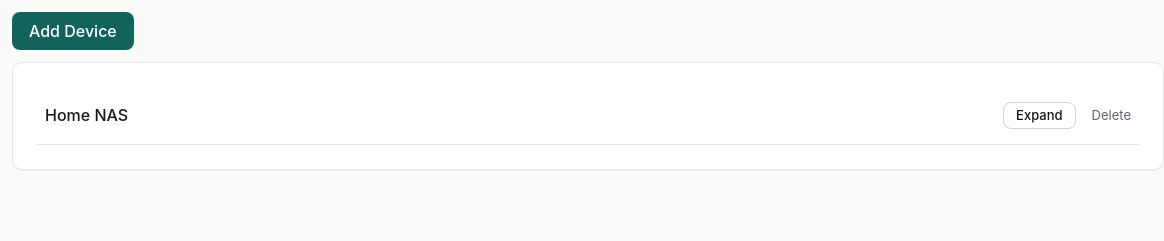
Test: RecordList › blocks deletion while another record references the source record
This screenshot has width=1164, height=241.
Click the button "Delete" at (1111, 115), box [1084, 101, 1139, 129]
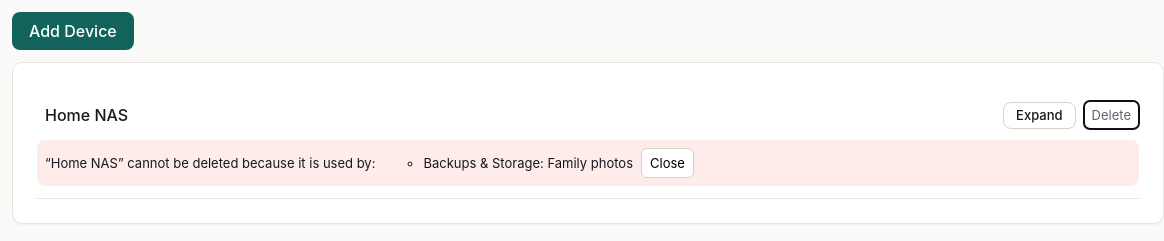
Now the text "“Home NAS” cannot be deleted because it is used by:" is shown, box [45, 153, 375, 173]
Now the list item "Backups & Storage: Family photos" is shown, box [423, 153, 633, 173]
